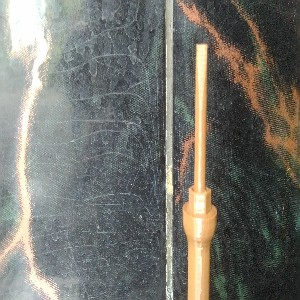obeng: (182, 43, 218, 300)
